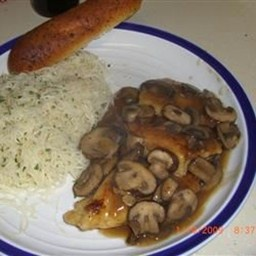background: (0, 0, 97, 98)
